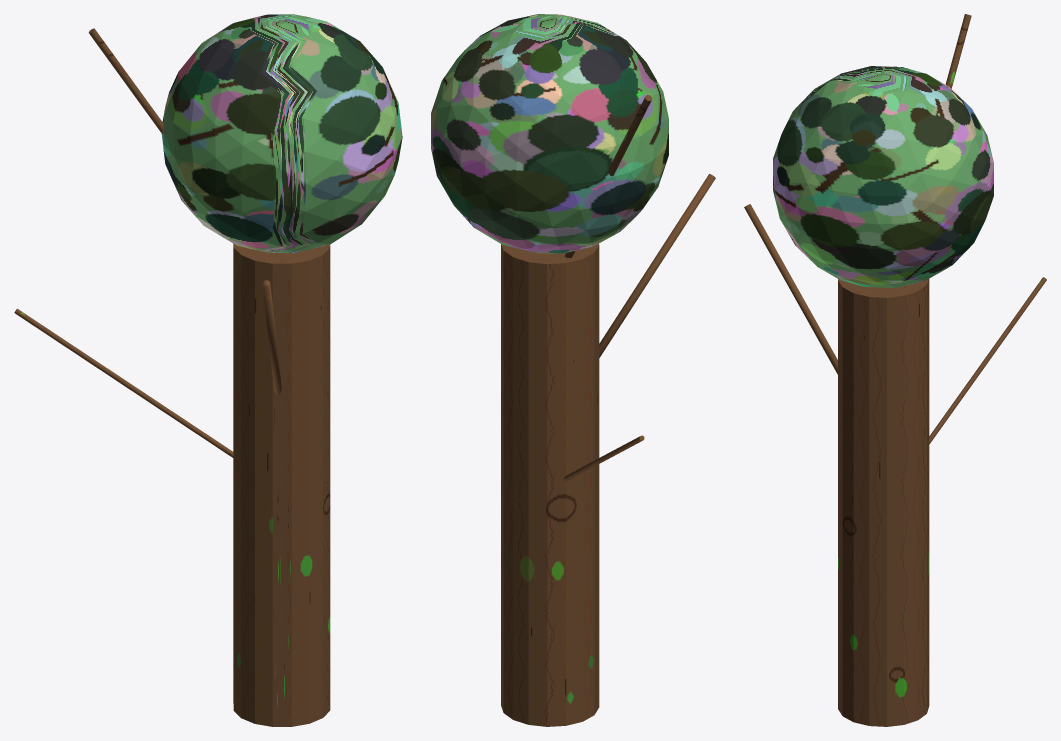
Rendered from tree_1.glb.
The picture shows the model from 3 angles, left to right: view 1: azimuth 30°, elevation 25°; view 2: azimuth 150°, elevation 25°; view 3: azimuth 270°, elevation 25°; orthographic projection. The views are drawn at different scales.
Parts seen in each view (by area): view 1: tree_1_trunk, tree_1_crown0, tree_1_branch1, tree_1_branch2, tree_1_branch0; view 2: tree_1_trunk, tree_1_crown0, tree_1_branch2, tree_1_branch0, tree_1_branch1; view 3: tree_1_trunk, tree_1_crown0, tree_1_branch2, tree_1_branch1, tree_1_branch0.
Boxes of the visible parts, bbox=[...] form: tree_1_trunk: bbox=[233, 244, 330, 726]; tree_1_crown0: bbox=[161, 14, 402, 253]; tree_1_branch1: bbox=[14, 308, 233, 457]; tree_1_branch2: bbox=[262, 280, 281, 394]; tree_1_branch0: bbox=[88, 28, 163, 133]; tree_1_trunk: bbox=[501, 243, 599, 726]; tree_1_crown0: bbox=[431, 14, 668, 253]; tree_1_branch2: bbox=[599, 174, 715, 357]; tree_1_branch0: bbox=[565, 95, 652, 257]; tree_1_branch1: bbox=[564, 435, 644, 480]; tree_1_trunk: bbox=[838, 279, 929, 726]; tree_1_crown0: bbox=[773, 66, 993, 287]; tree_1_branch2: bbox=[744, 204, 837, 374]; tree_1_branch1: bbox=[929, 277, 1046, 444]; tree_1_branch0: bbox=[945, 14, 971, 88].
Size of the model in its own units: 1.17 by 2.67 by 1.16.
5 materials, 5 textured.
